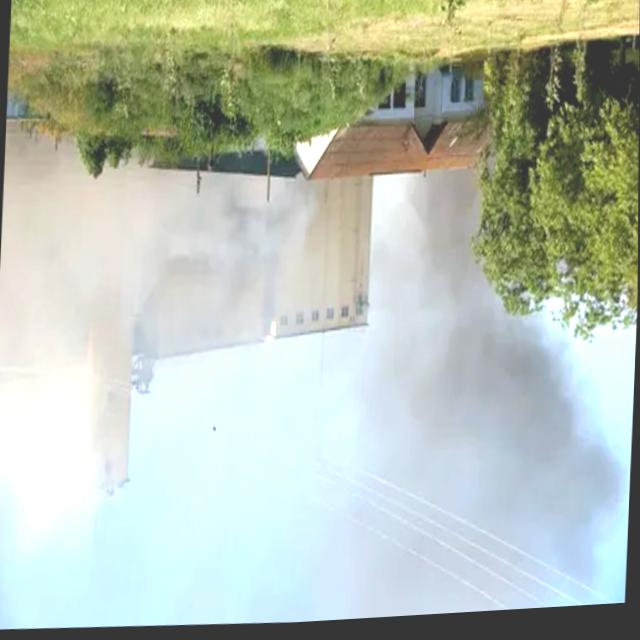no_helmet: (353, 170, 639, 623), (0, 137, 315, 391)
